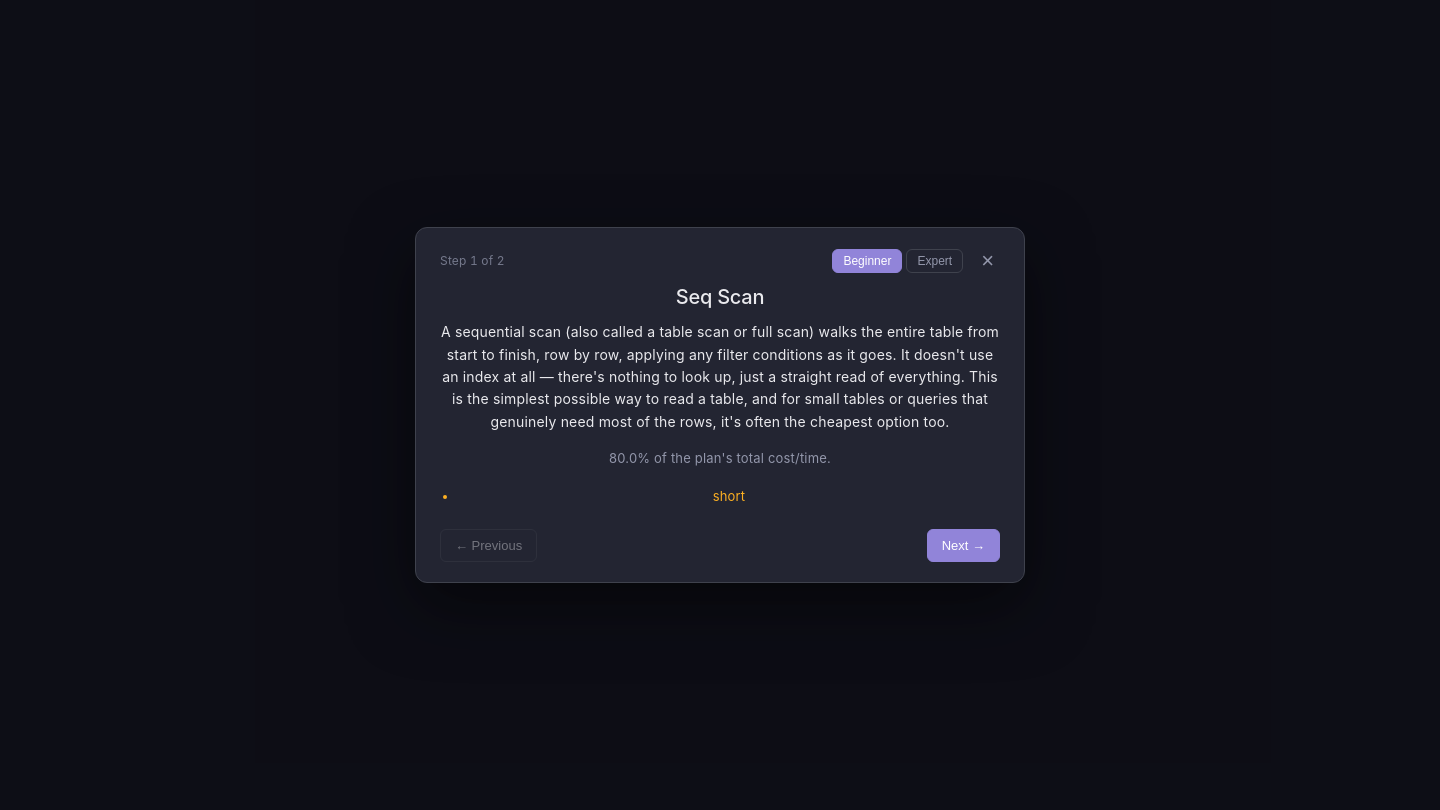
Test: WalkthroughOverlay › starts on the first (leaf/execution-order) step and advances/retreats via Next/Previous
The width and height of the screenshot is (1440, 810).
Check: the text with test id "walkthrough-step-counter" reads "Step 1 of 2", box [440,253,505,268]
Check: the heading with test id "walkthrough-step-heading" reads "Seq Scan", box [676,285,764,309]
Click the button with test id "walkthrough-next" at (963, 546), box [927,529,1000,562]
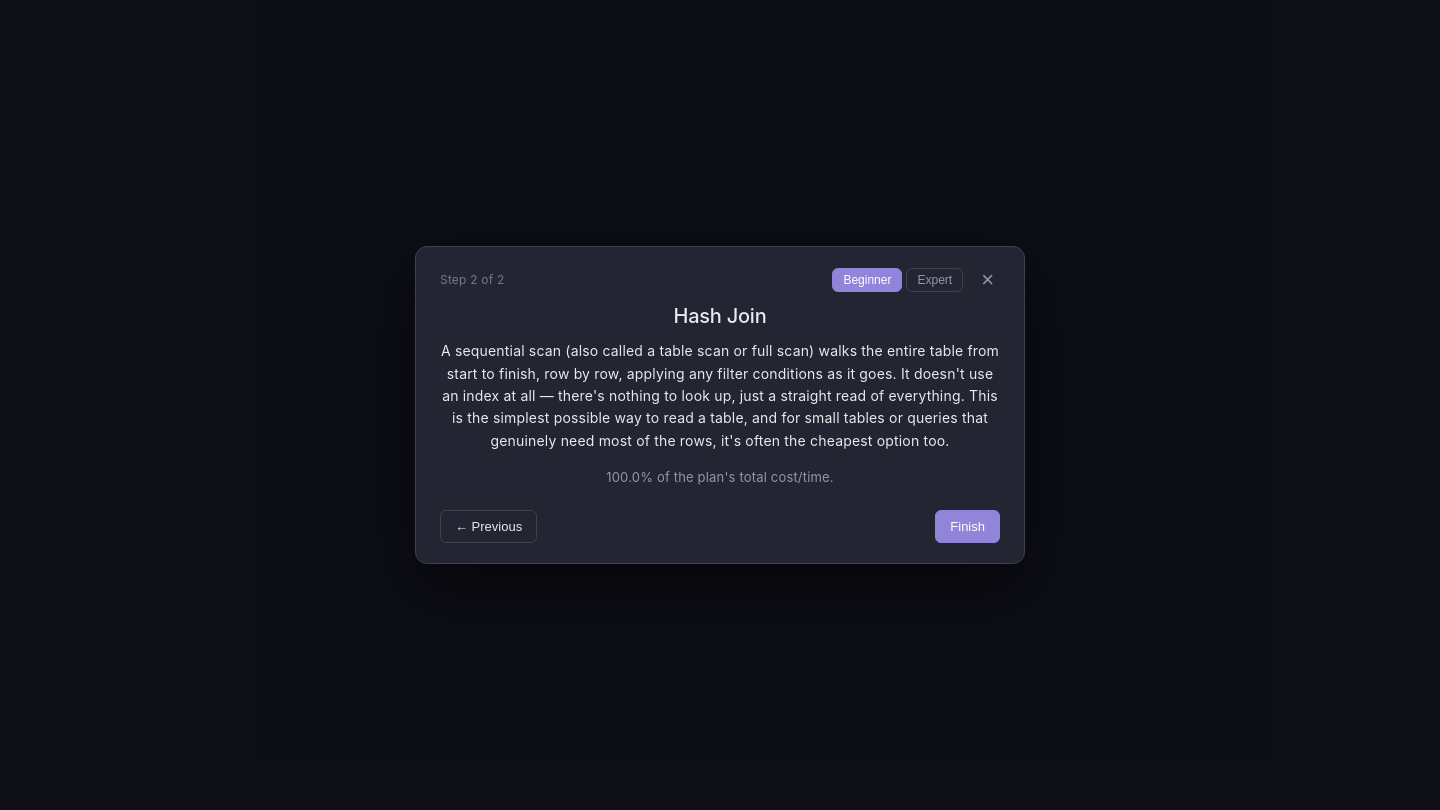
Check: the text with test id "walkthrough-step-counter" reads "Step 2 of 2", box [440,272,505,287]
Check: the button with test id "walkthrough-finish" is shown, box [935,510,1000,543]
Click the button with test id "walkthrough-prev" at (489, 527), box [440,510,537,543]
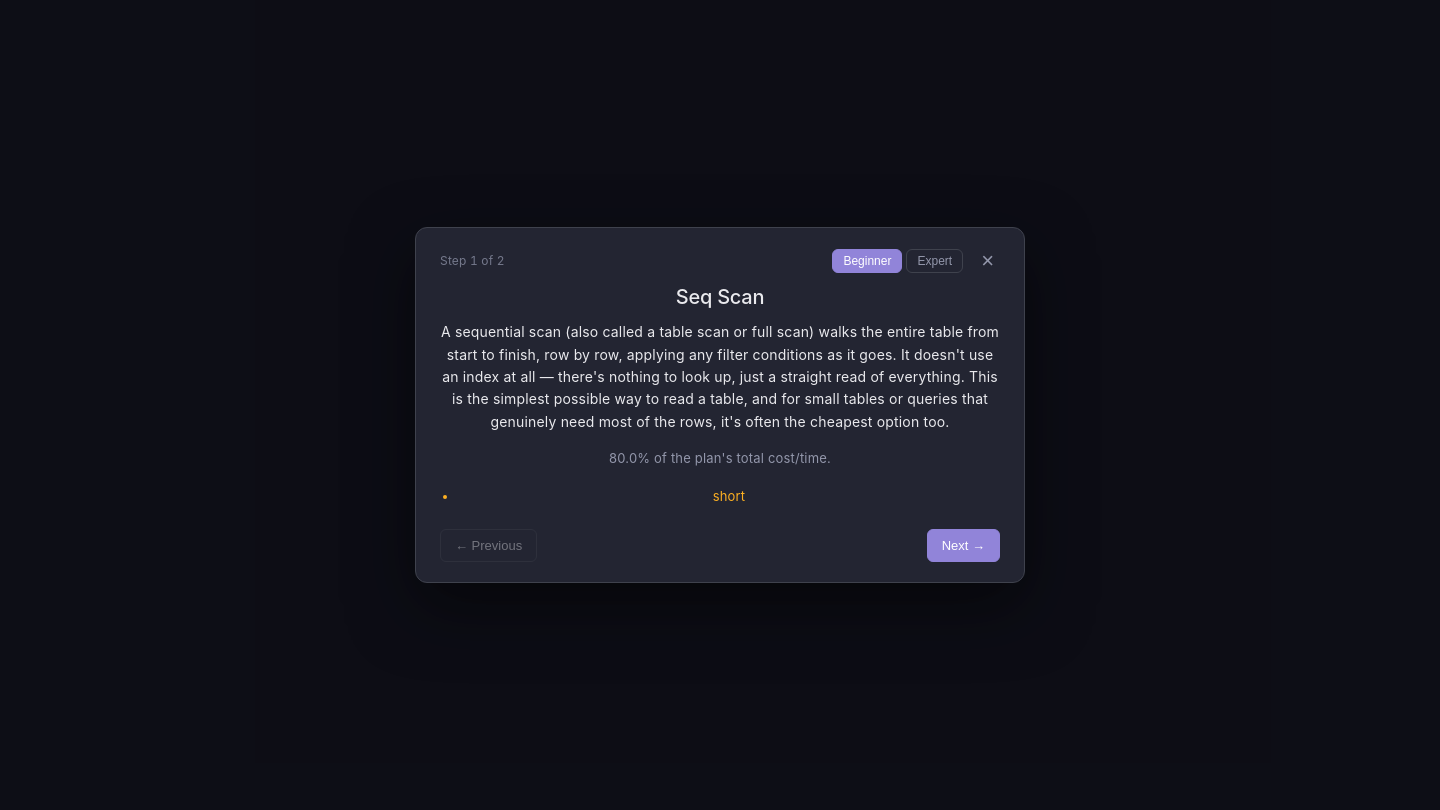
Check: the text with test id "walkthrough-step-counter" reads "Step 1 of 2", box [440,253,505,268]
